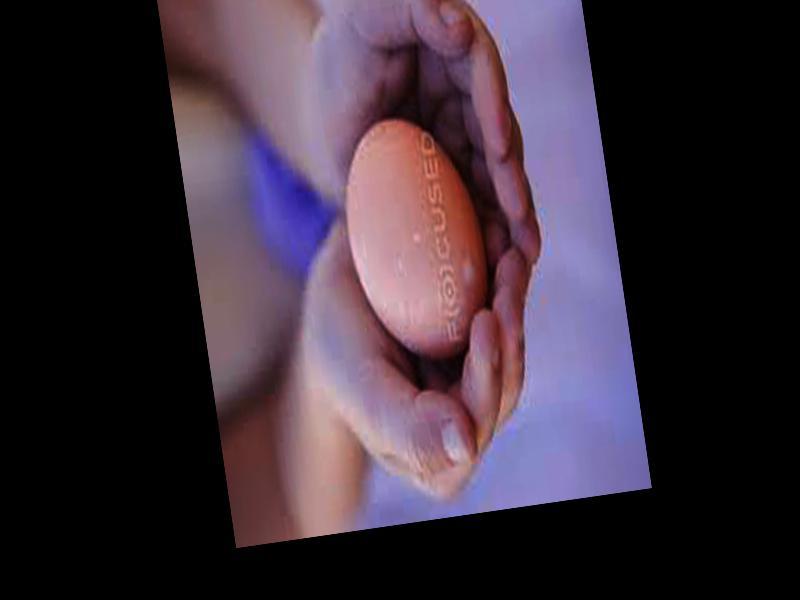Eggs: (330, 103, 499, 368)
